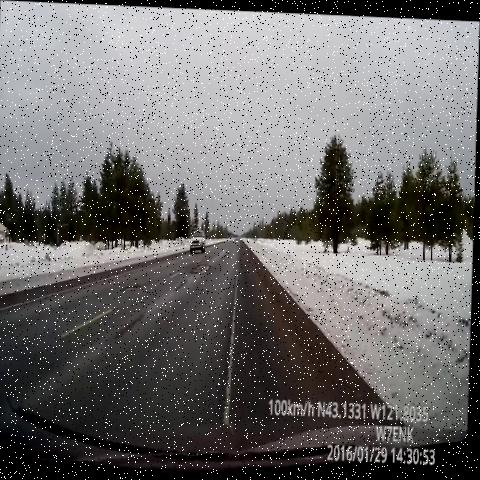pothole: (116, 271, 150, 300), (187, 251, 216, 282)
